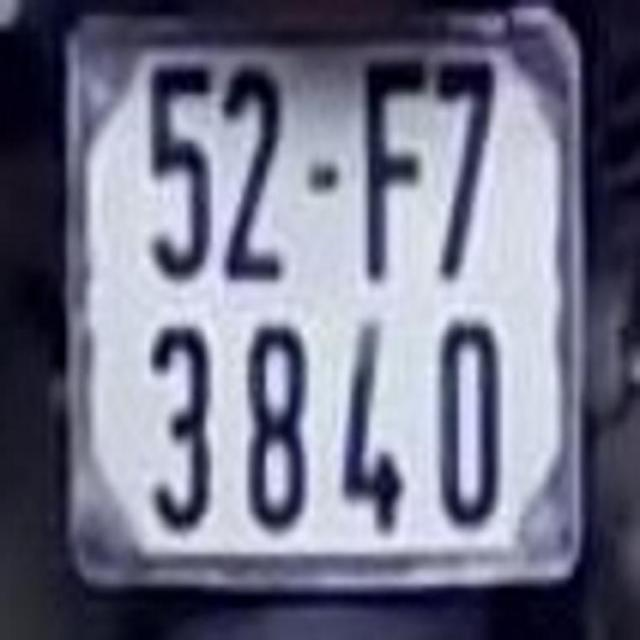0: (430, 312, 502, 530)
2: (222, 57, 287, 280)
3: (147, 316, 215, 524)
4: (333, 310, 411, 534)
5: (145, 60, 215, 279)
7: (433, 49, 498, 282)
8: (240, 315, 316, 535)
F: (356, 46, 430, 280)
